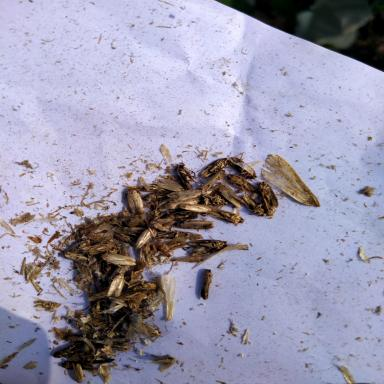pbw: (229, 152, 261, 182), (175, 162, 203, 190), (188, 236, 227, 256), (252, 181, 278, 210), (215, 183, 244, 209), (226, 174, 258, 195), (122, 187, 145, 215), (241, 194, 267, 217), (212, 208, 245, 226), (100, 250, 137, 266), (148, 198, 174, 220), (200, 158, 228, 178), (200, 184, 228, 204), (166, 189, 202, 204), (201, 169, 225, 191), (150, 353, 177, 372), (135, 227, 157, 249), (86, 240, 118, 255), (86, 222, 111, 241), (155, 230, 202, 240), (128, 260, 146, 286), (106, 273, 125, 297), (54, 342, 82, 358), (161, 210, 198, 222), (108, 265, 131, 284), (164, 197, 200, 209), (108, 214, 146, 225), (177, 219, 215, 230), (156, 178, 185, 192), (76, 261, 94, 283), (160, 237, 188, 250), (57, 361, 97, 370), (128, 292, 148, 310), (33, 299, 62, 311), (114, 226, 148, 236), (259, 194, 274, 216), (141, 190, 170, 201), (179, 203, 213, 212), (64, 252, 89, 264), (71, 362, 84, 384), (71, 239, 90, 254), (133, 281, 157, 292), (88, 289, 108, 301), (112, 231, 132, 243), (136, 185, 170, 192), (144, 322, 161, 336), (91, 300, 104, 318), (63, 334, 86, 344), (115, 240, 129, 256)
